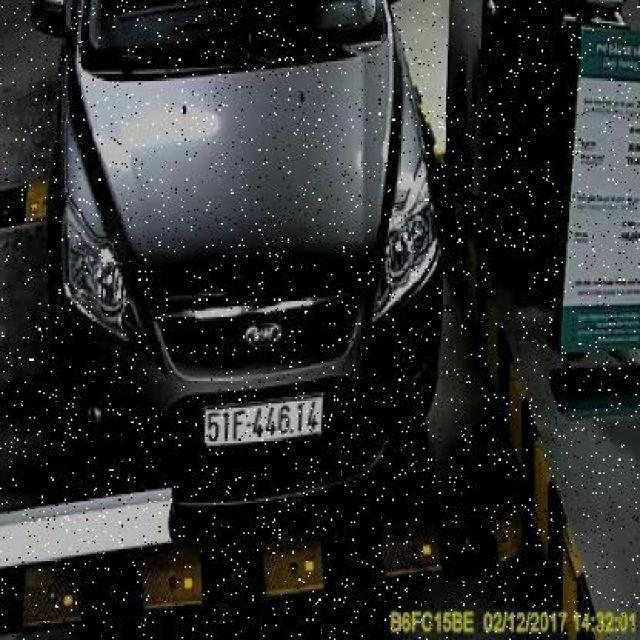number_plate: (202, 395, 324, 443)
